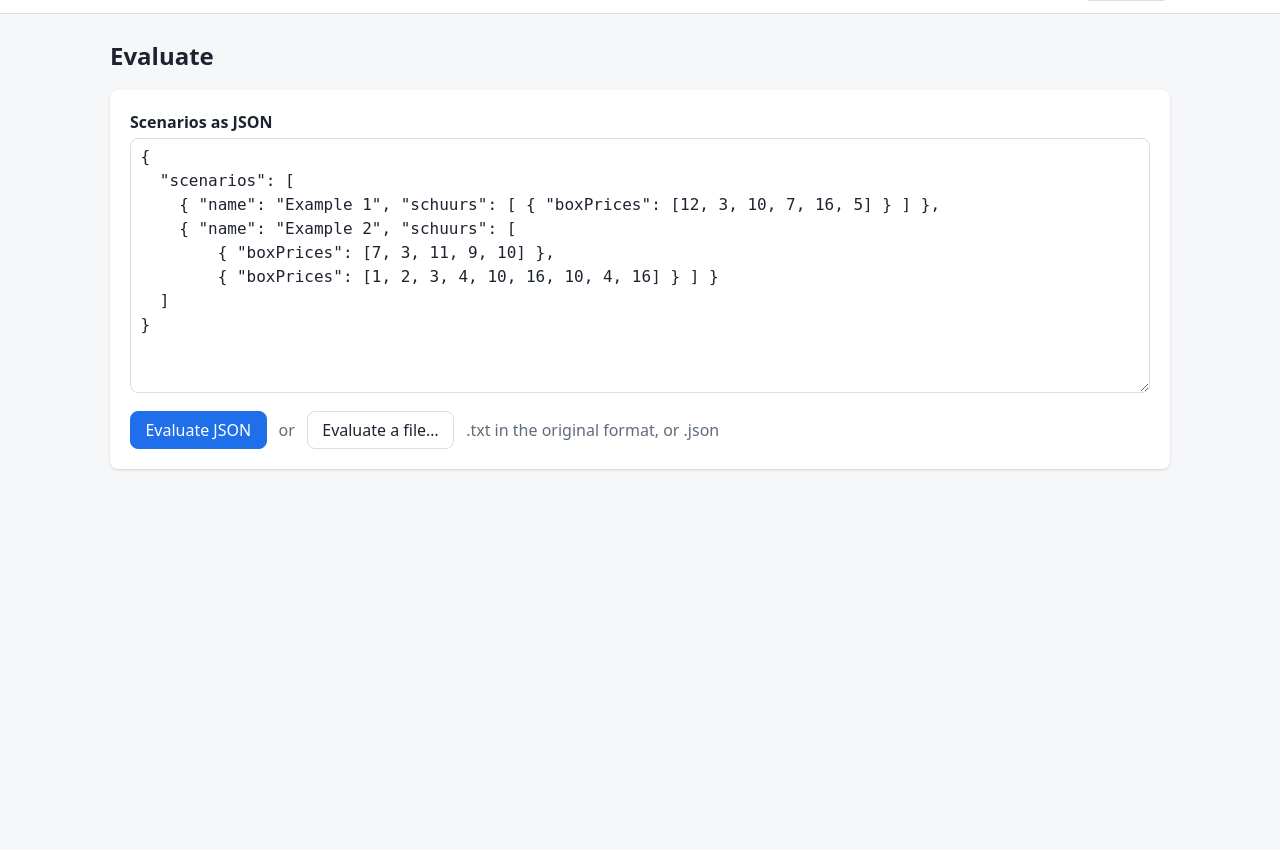
Test: EvaluatorPage › evaluates the JSON example and shows both output formats
Click the button "Evaluate JSON" at point(198, 430), box x1=130 y1=411 x2=266 y2=449
(page scrolled)
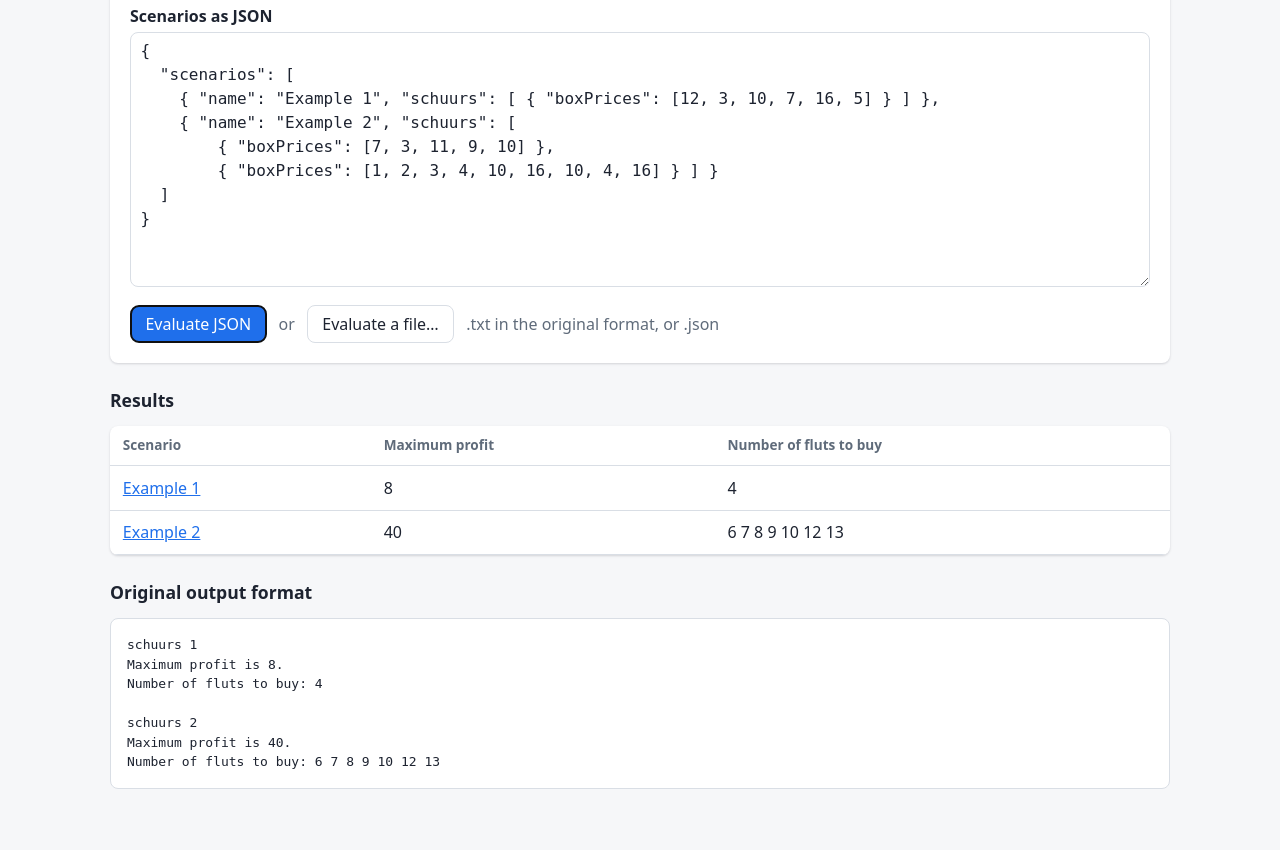
Check: the text "Number of fluts to buy: 6 7 8 9 10 12 13" is shown, box x1=127 y1=637 x2=440 y2=769
